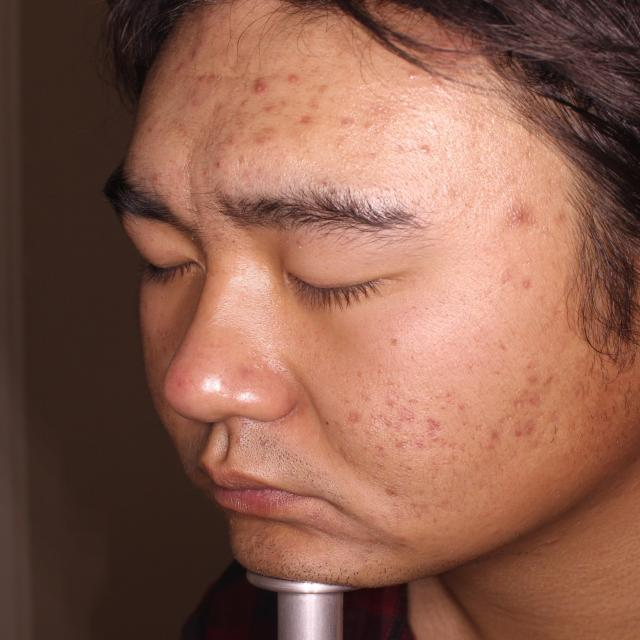pustule: (508, 380, 547, 411), (504, 204, 542, 228), (510, 364, 550, 386), (250, 126, 282, 153), (509, 416, 541, 439), (481, 425, 514, 445), (250, 78, 272, 104)
